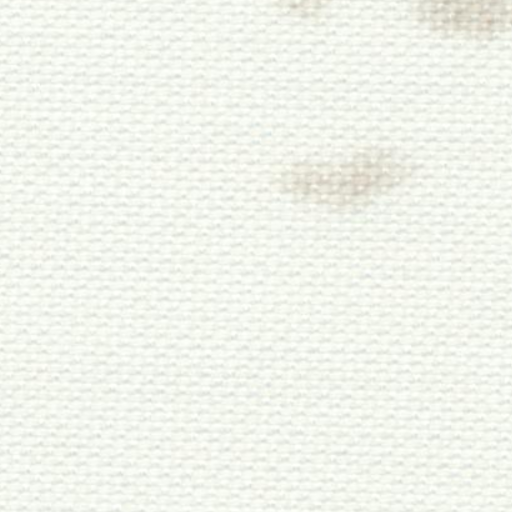WuZi: (264, 114, 437, 230), (413, 0, 508, 52), (264, 2, 358, 42)
